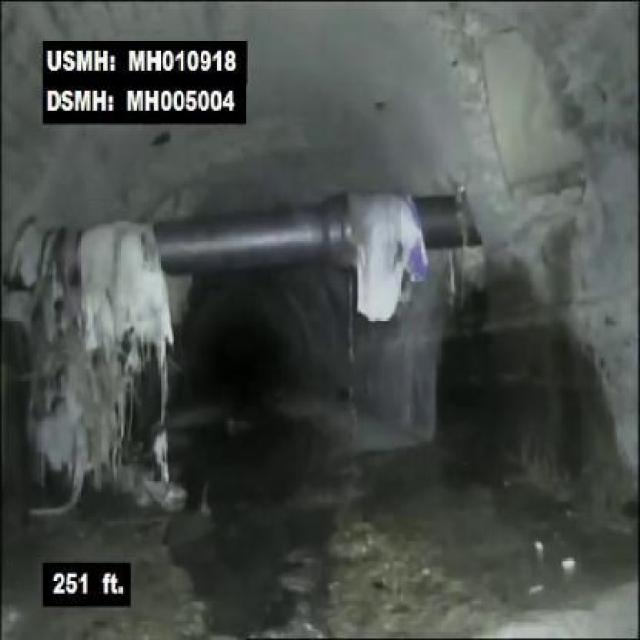Utility intrusion: (6, 188, 489, 289)
